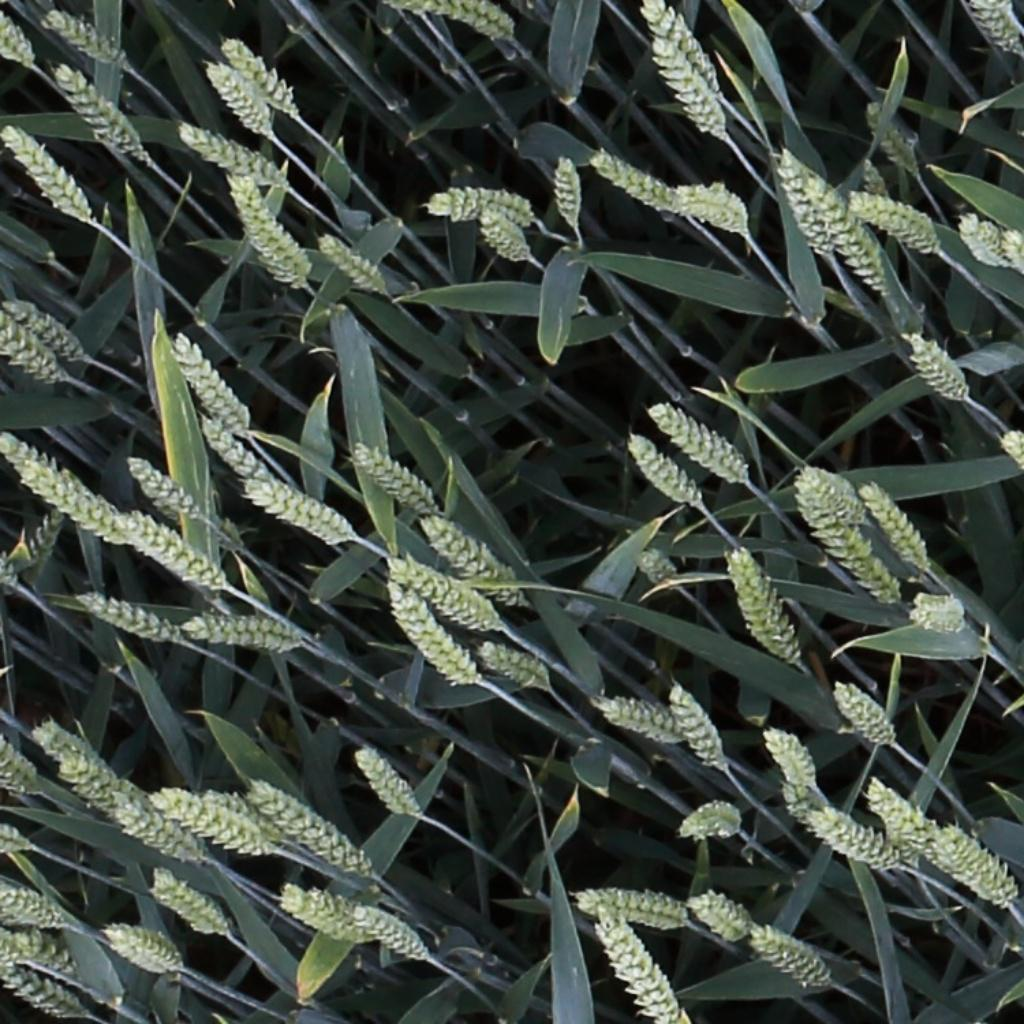0-0: (0, 422, 126, 550), (795, 473, 901, 607), (247, 780, 379, 877), (588, 913, 697, 1024), (802, 169, 890, 296), (222, 169, 312, 288), (30, 722, 135, 822), (111, 505, 226, 591), (2, 118, 96, 223), (50, 60, 147, 161), (724, 544, 800, 670), (386, 588, 479, 690), (170, 334, 254, 443), (638, 0, 726, 96), (647, 35, 727, 140), (241, 480, 358, 548), (649, 401, 746, 481), (150, 788, 268, 853), (416, 514, 514, 592), (390, 558, 495, 630), (108, 788, 200, 869), (856, 477, 932, 574), (215, 32, 299, 118), (937, 827, 1017, 911), (771, 143, 830, 256), (174, 121, 278, 184), (862, 779, 936, 867), (849, 193, 945, 258), (622, 430, 700, 509), (197, 55, 268, 140), (348, 443, 434, 513), (802, 809, 899, 871), (655, 179, 752, 239), (175, 610, 304, 655), (349, 745, 420, 826), (572, 889, 696, 935), (589, 148, 679, 211), (666, 682, 726, 775), (4, 296, 86, 363), (195, 415, 271, 487), (279, 884, 375, 940), (0, 305, 71, 380), (121, 454, 199, 522), (99, 925, 191, 982), (901, 327, 969, 404), (145, 868, 225, 933), (77, 593, 177, 644), (748, 927, 830, 989), (43, 8, 124, 69), (345, 903, 428, 962), (831, 679, 897, 749), (419, 186, 536, 224), (315, 232, 385, 294), (0, 957, 72, 1017), (17, 501, 66, 585), (759, 724, 816, 795), (404, 1, 513, 38), (868, 103, 922, 177), (467, 203, 529, 262), (595, 700, 682, 742), (687, 892, 756, 944), (1, 933, 80, 976), (475, 644, 547, 688), (955, 211, 1010, 267), (973, 0, 1024, 60), (801, 475, 866, 522), (675, 803, 744, 845), (909, 592, 969, 636), (0, 4, 38, 70), (551, 147, 580, 232), (0, 889, 61, 928), (0, 737, 37, 801), (781, 775, 814, 826), (853, 157, 892, 199), (1000, 229, 1024, 297), (634, 548, 675, 585), (1000, 431, 1024, 469)
